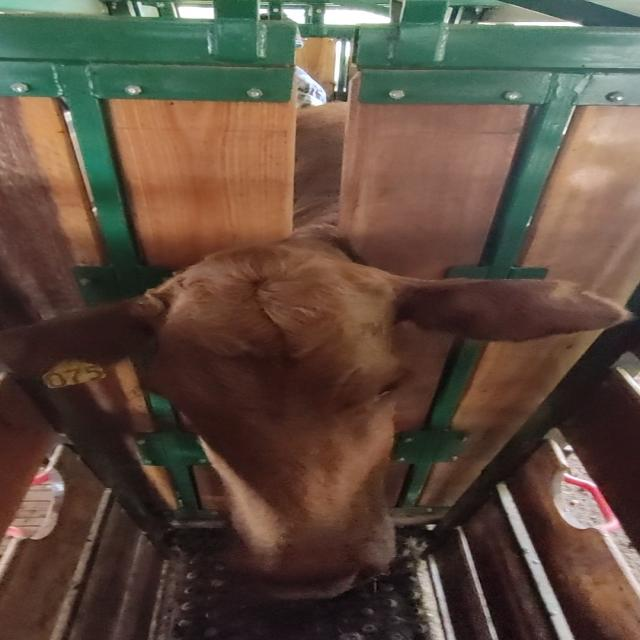cowFace: (142, 245, 412, 601)
